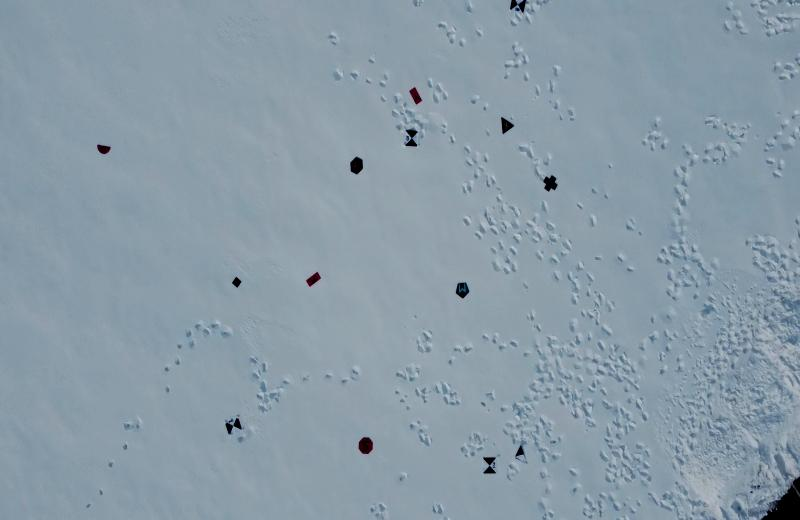Cross: (543, 175, 559, 193)
Hexagon: (350, 154, 364, 175)
Octagon: (358, 437, 374, 454)
Pentagon: (456, 283, 470, 298)
Rectangle: (408, 87, 423, 105), (306, 272, 322, 287)
Semi Circle: (97, 144, 112, 155)
Square: (232, 276, 242, 288)
Triangle: (500, 116, 515, 134)
